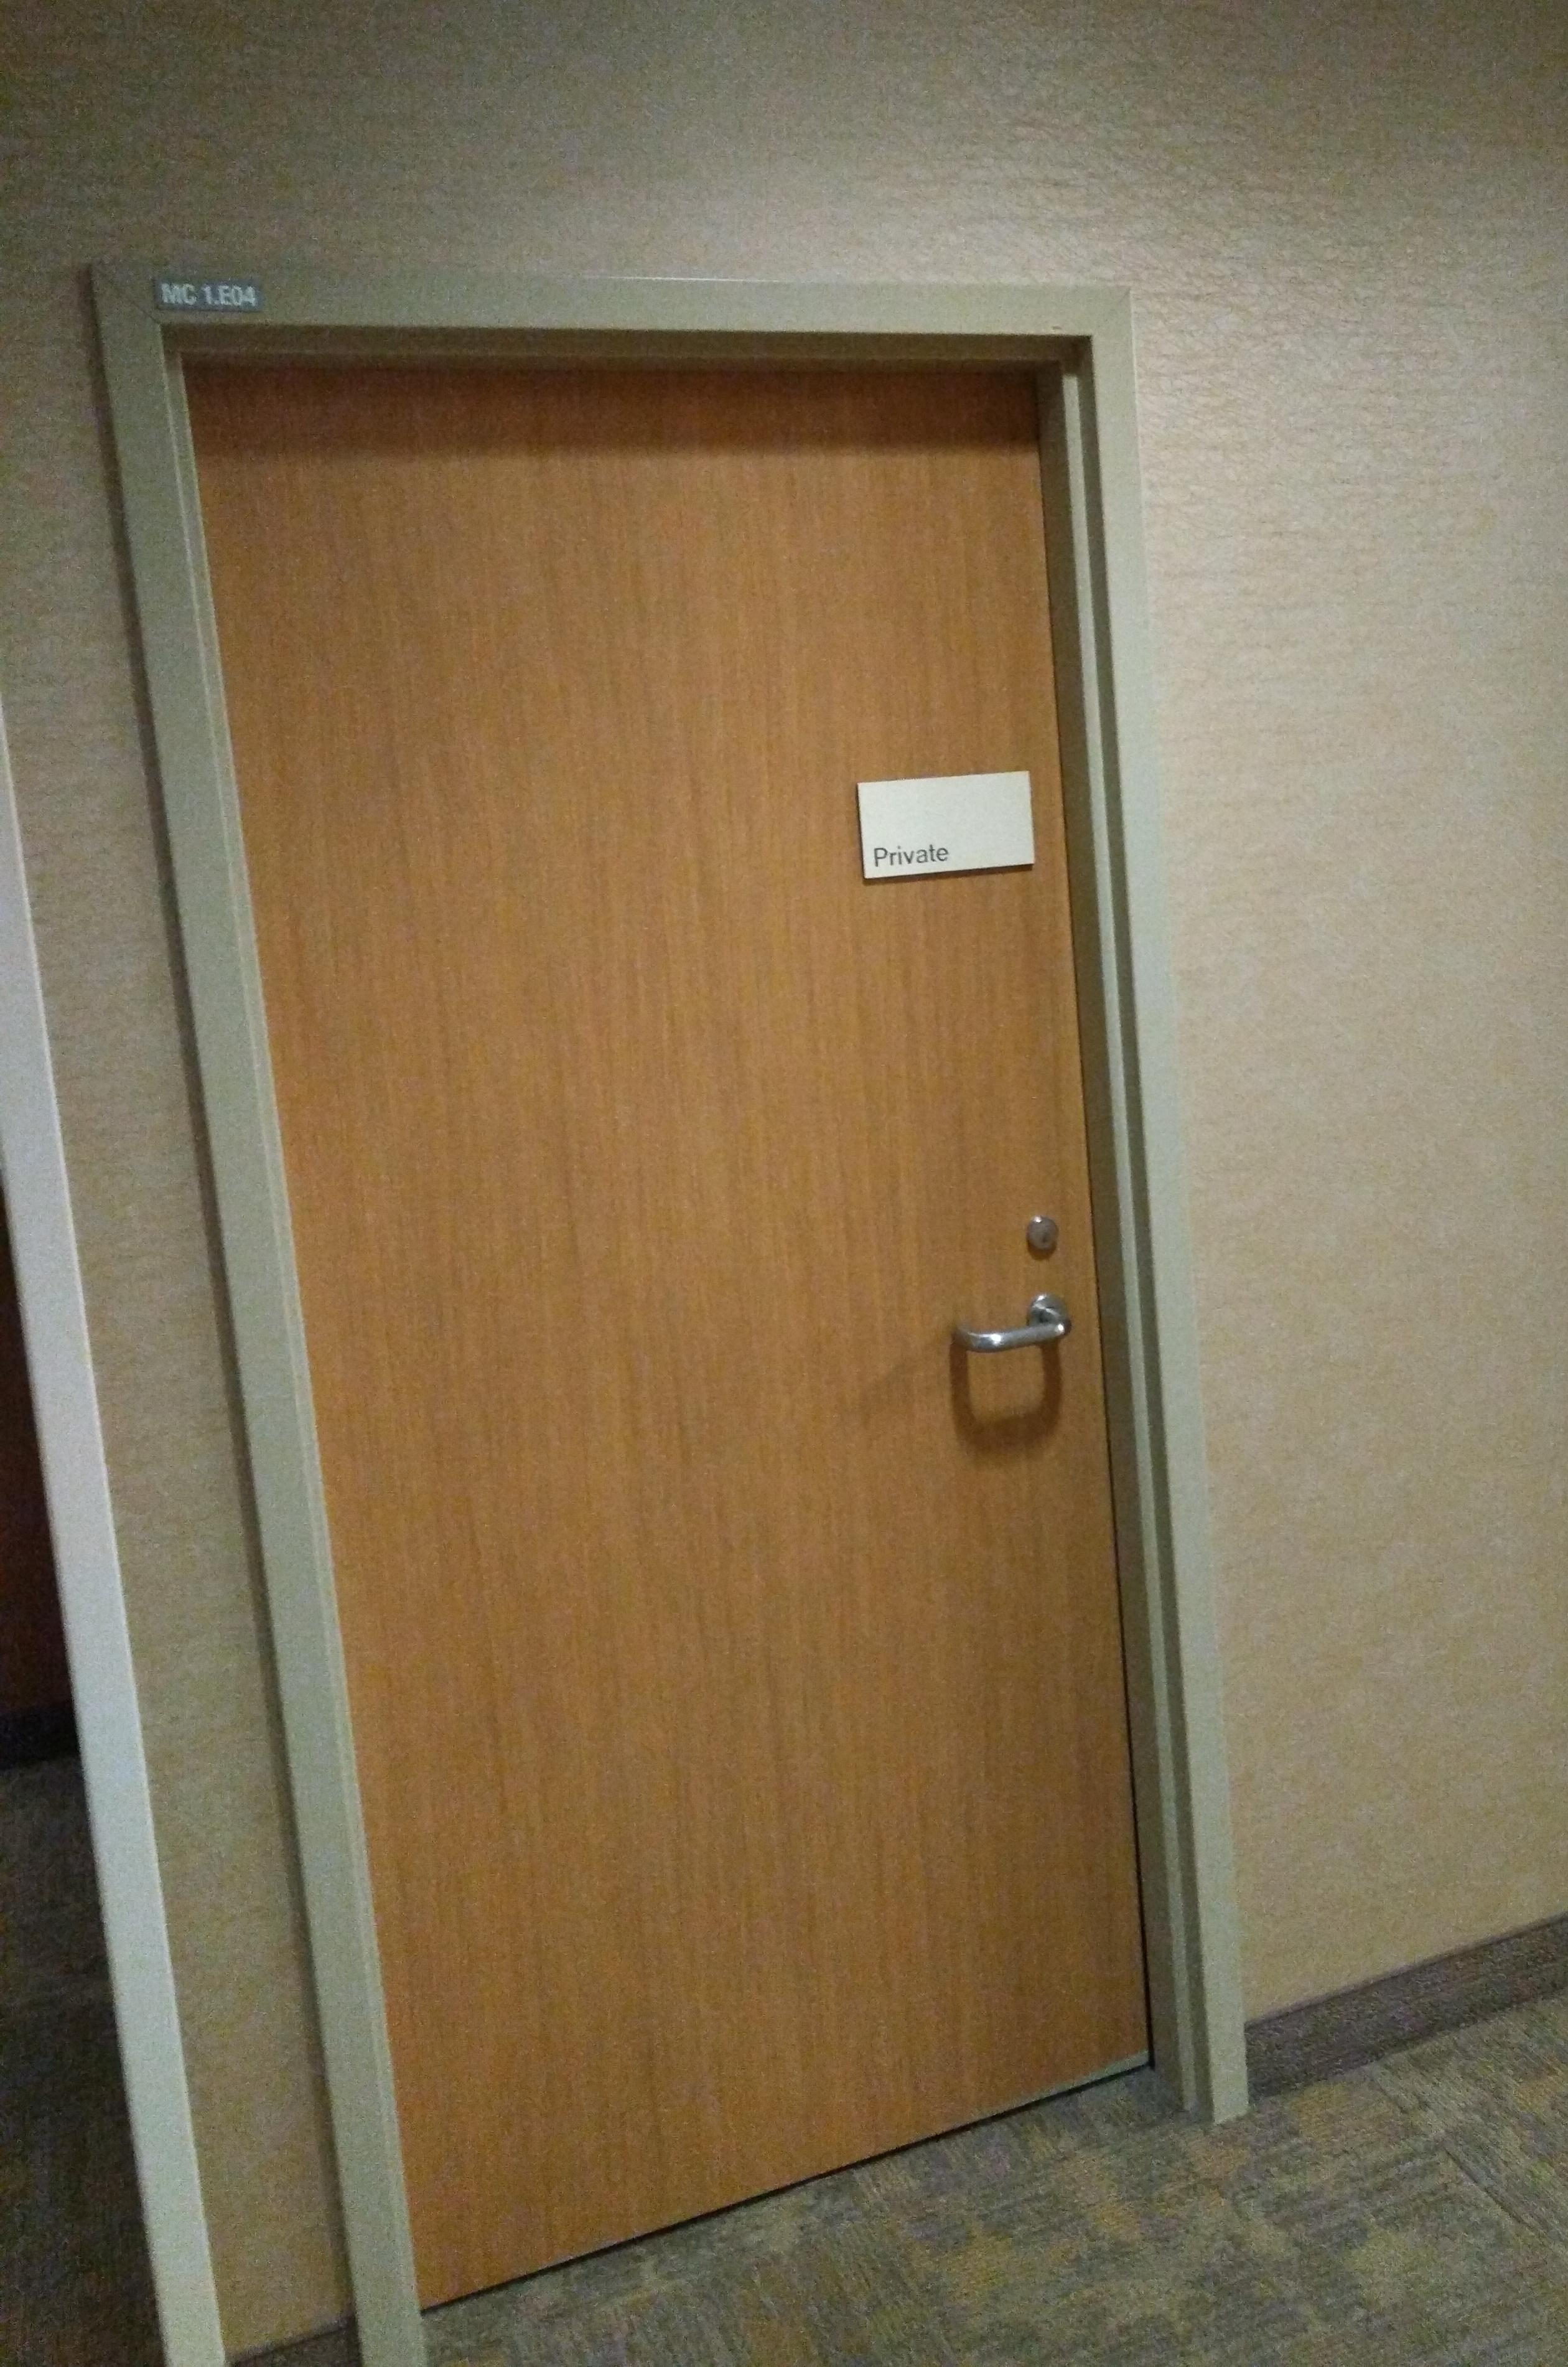handle: (966, 1299, 1067, 1390)
